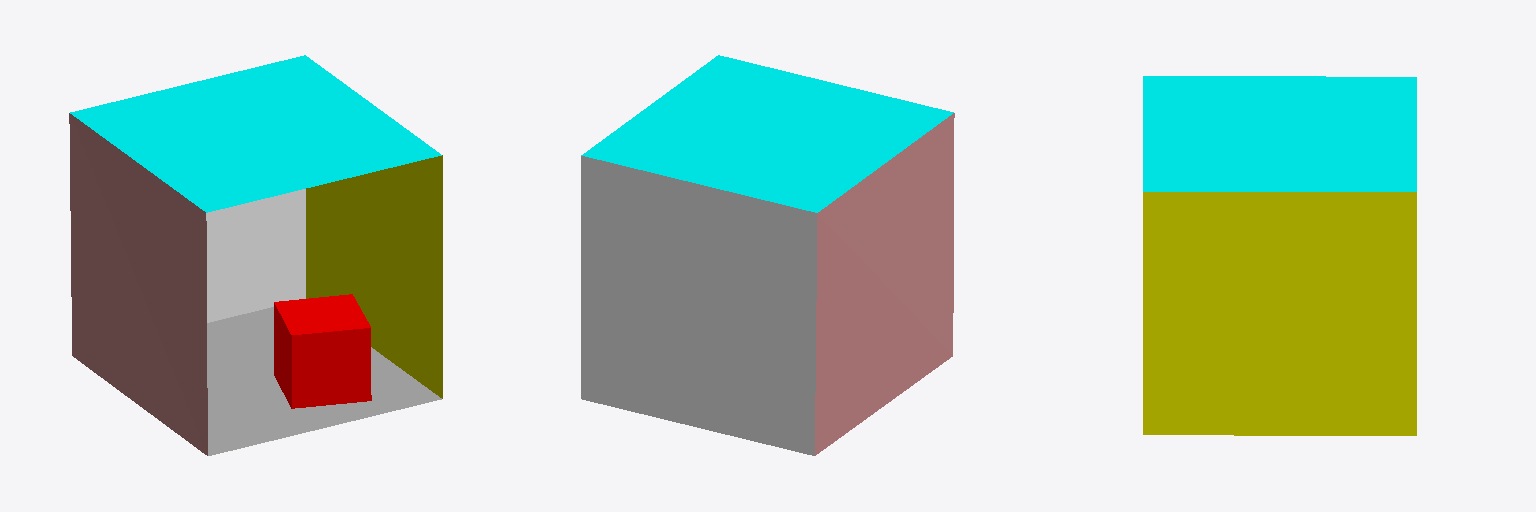
The model's file is map-cornell-box.obj.
3 renders of one model, left to right at view 1: azimuth 30°, elevation 25°; view 2: azimuth 150°, elevation 25°; view 3: azimuth 270°, elevation 25°, orthographic.
Parts seen in each view (by area): view 1: left_wall, ceiling, right_wall, floor, back_wall, short_box; view 2: back_wall, left_wall, ceiling; view 3: right_wall, ceiling.
Part boxes in pixels (left/top/right/bottom): left_wall: left=69, top=113, right=207, bottom=455; ceiling: left=70, top=55, right=441, bottom=212; right_wall: left=306, top=155, right=442, bottom=398; floor: left=207, top=307, right=441, bottom=455; back_wall: left=206, top=189, right=305, bottom=322; short_box: left=274, top=294, right=371, bottom=408; back_wall: left=581, top=156, right=816, bottom=455; left_wall: left=815, top=113, right=954, bottom=455; ceiling: left=581, top=55, right=953, bottom=212; right_wall: left=1143, top=192, right=1416, bottom=435; ceiling: left=1143, top=76, right=1416, bottom=191.
Bounding box in the file's own units: 5.56 × 5.49 × 5.6.